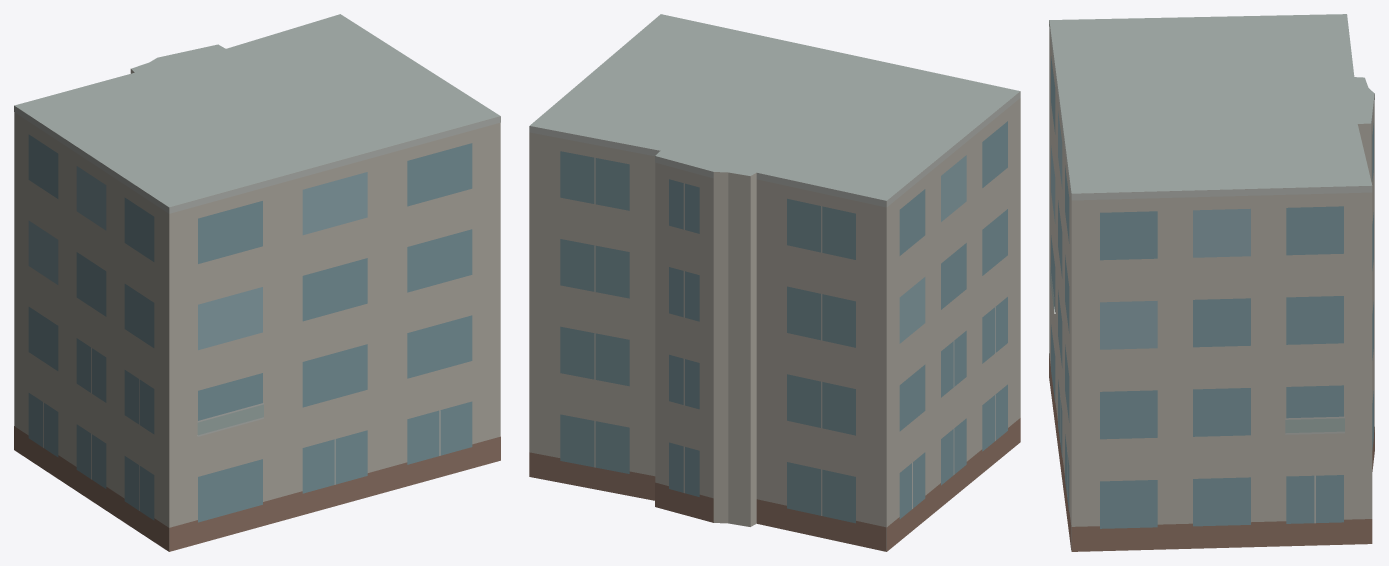
Rendered from survey-upis-32927385.glb.
The picture shows the model from 3 angles, left to right: view 1: azimuth 30°, elevation 25°; view 2: azimuth 150°, elevation 25°; view 3: azimuth 270°, elevation 25°; orthographic projection. The views are drawn at different scales.
Visible parts, largest first — view 1: survey-upis-32927385.tmp; view 2: survey-upis-32927385.tmp; view 3: survey-upis-32927385.tmp.
Part boxes in pixels (x1,y1,x2,y2): survey-upis-32927385.tmp: (14, 14, 500, 551); survey-upis-32927385.tmp: (529, 14, 1020, 551); survey-upis-32927385.tmp: (1049, 14, 1374, 551).
Bounding box in the file's own units: 13.89 × 12.9 × 10.63.
